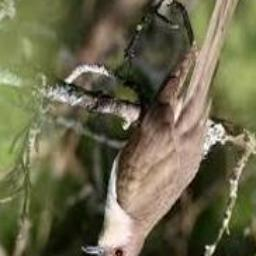Cuckoo: (82, 0, 250, 256)
